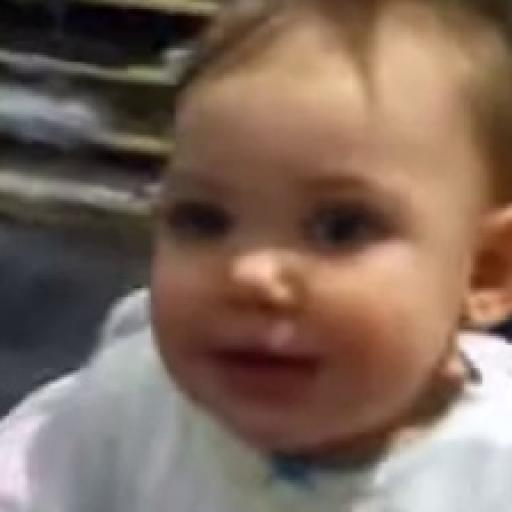Autism: (121, 26, 512, 485)
